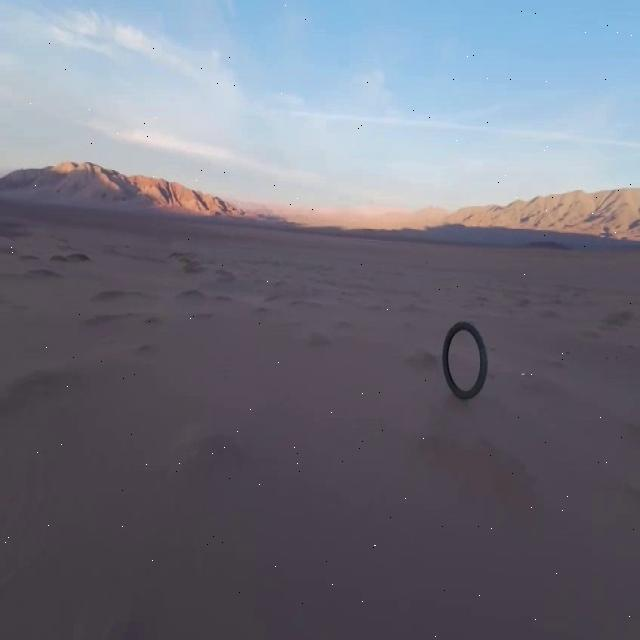Tire: (443, 323, 487, 398)
